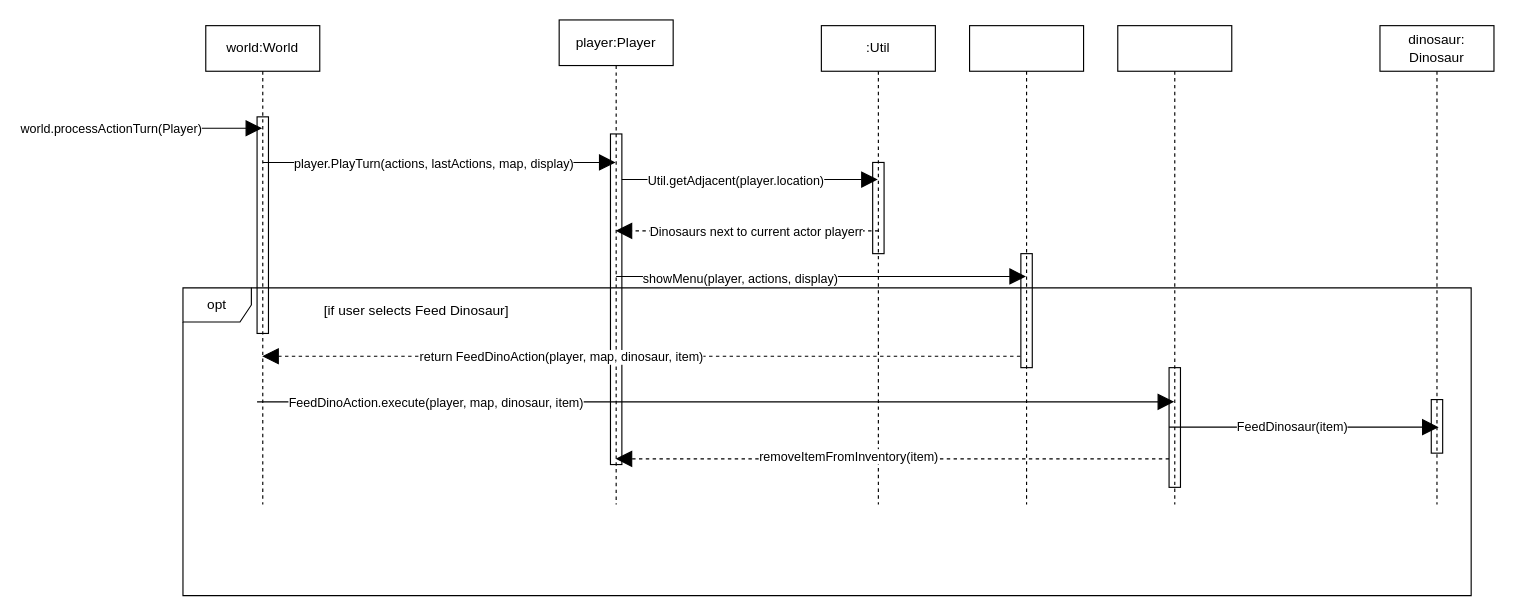
Image size: 1514x616. Some labels were removed from this diagram. The shapes that lost their labels are listed below. From the top down, each one's box as (x1, y1, x2, y2) in pixels, then its label:
(968, 25, 1084, 504): menu:Menu
(1117, 25, 1232, 504): feedDinoAction: FeedDinoAction
